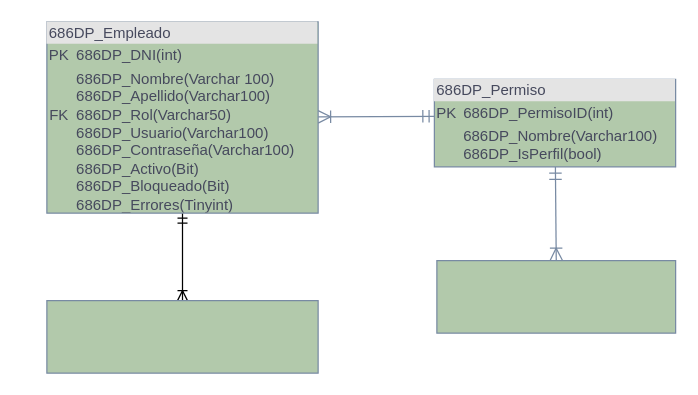
Image size: 698x395. Some labels were removed from this diagram. The box of each missing label's shape, as (x1, y1, x2, y2) in pixels:
686DP_ContraseñasAntiguas FK 686DP_DNI(int) 686DP_Contraseña(Varchar100): (46, 299, 318, 373)
686DP_PermisoPermiso FK 686DP_PermisoPadre(int) FK 686DP_PermisoHijo(int): (436, 259, 676, 333)
